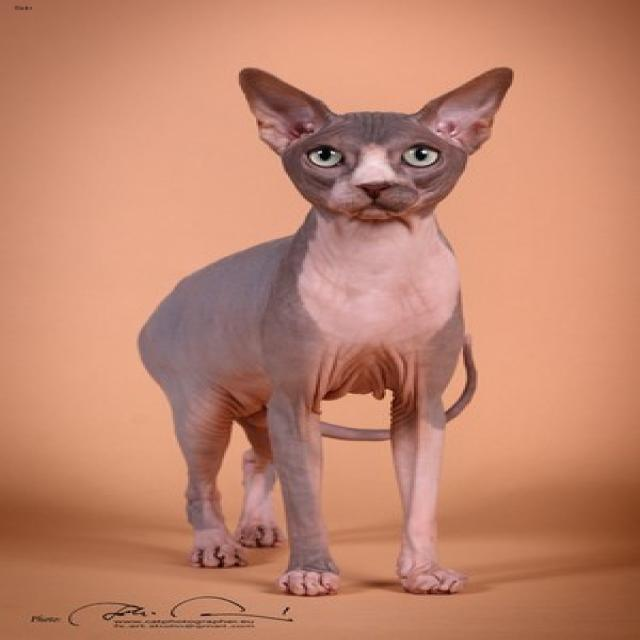Sphynx: (235, 66, 510, 218)
